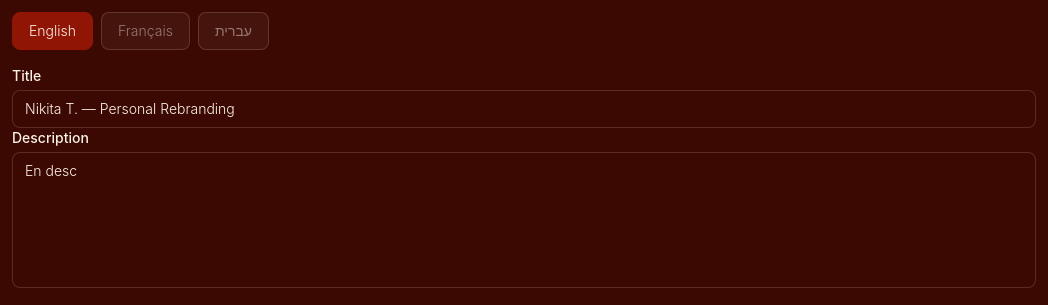
AdminLocaleTextFields — locale-tabbed multilingual fields › switches the visible tab on selection
Click the button "Français": (145, 31) x1=101 y1=12 x2=190 y2=50
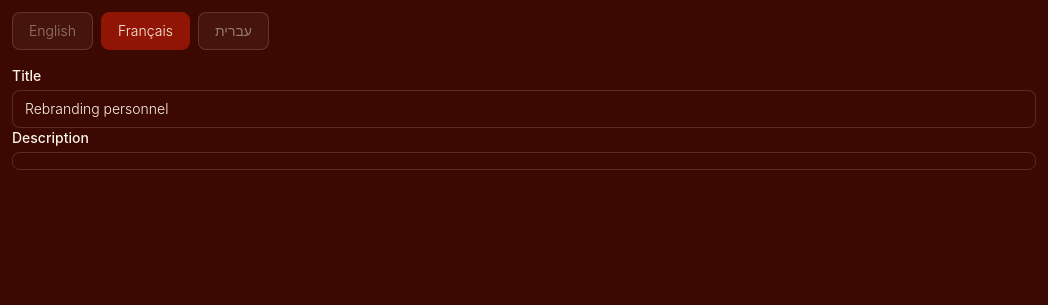
Expected: the field named "title_fr" holds "Rebranding personnel", x1=12 y1=90 x2=1036 y2=128
